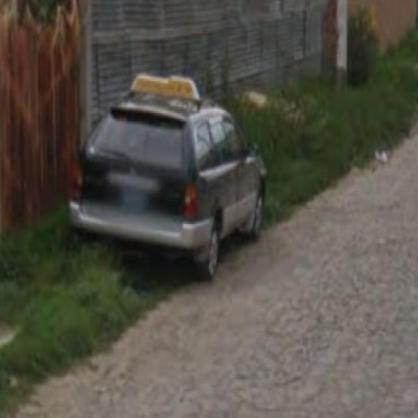car: (70, 88, 269, 281)
